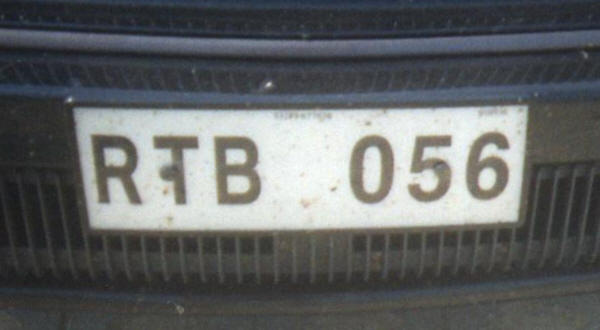license_plate: (69, 102, 531, 232)
